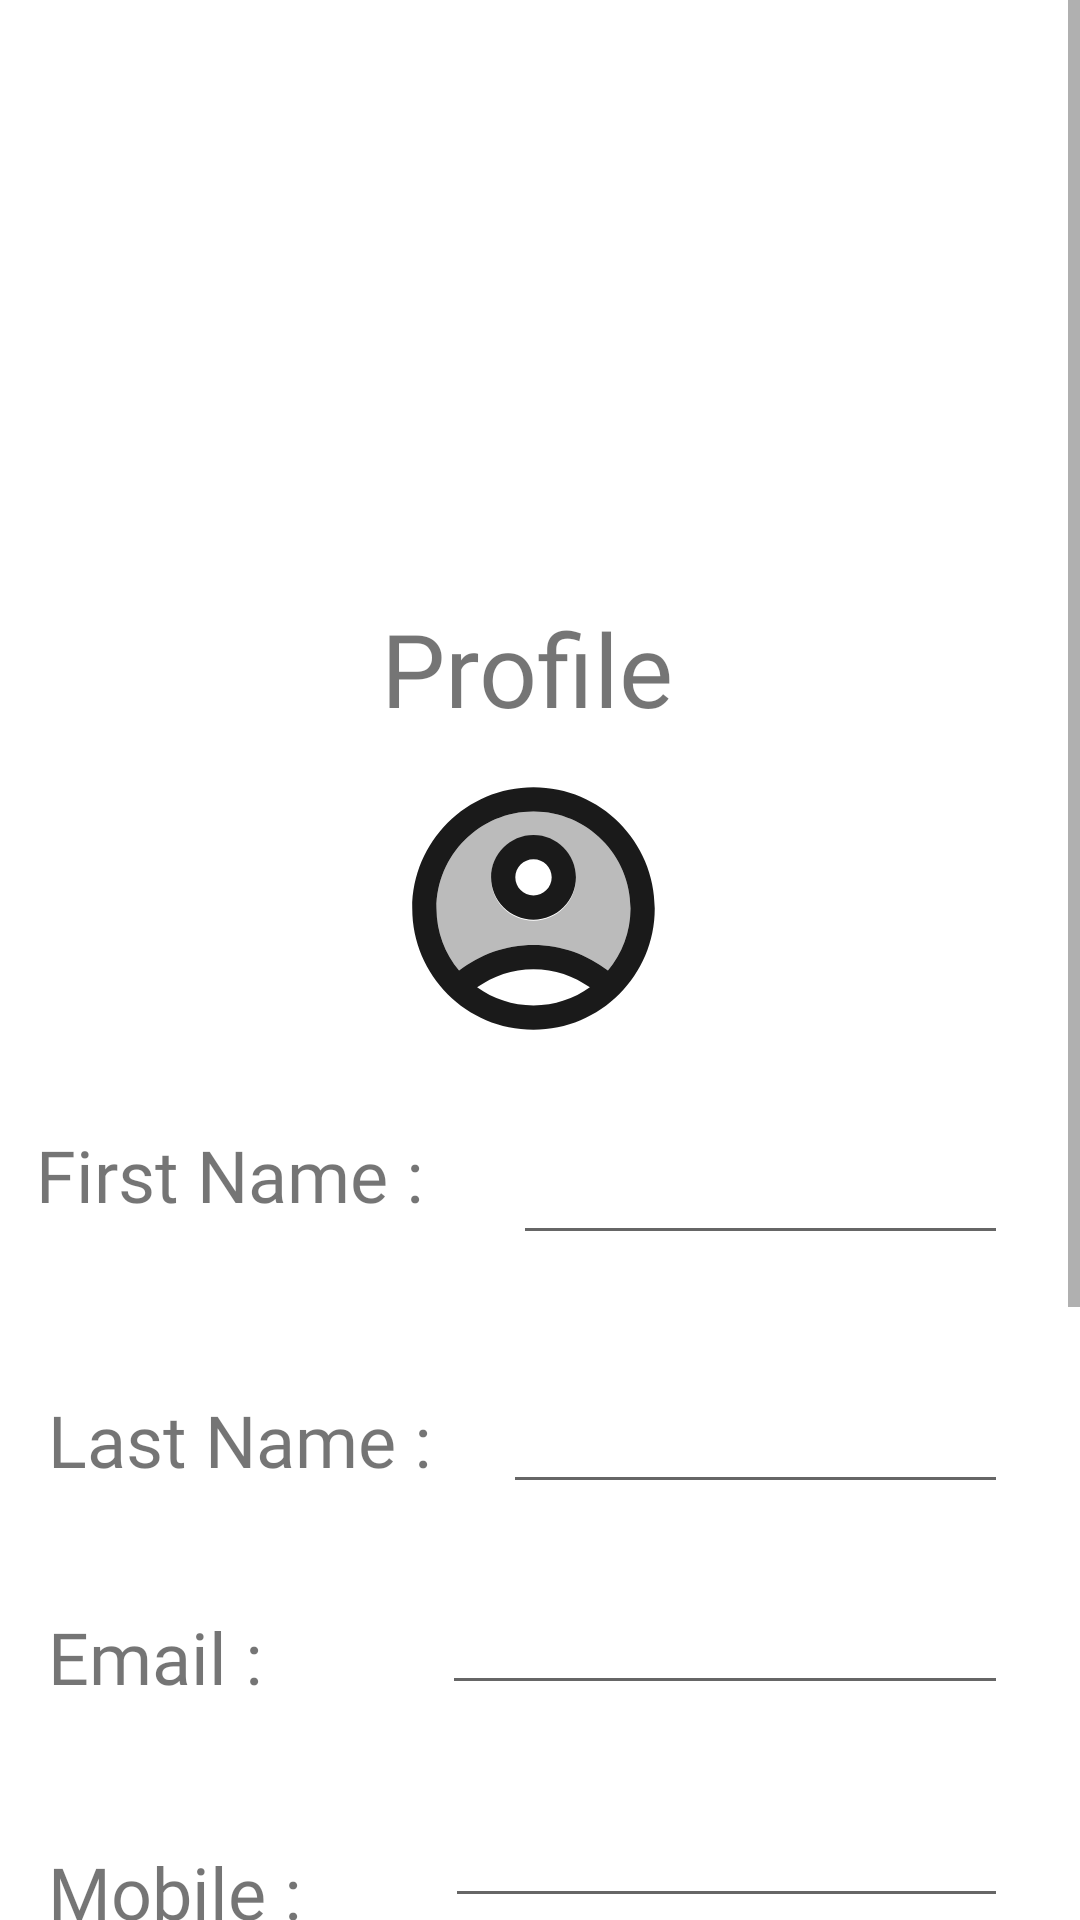

Icon bounding boxes for this 1080×1920 phone screenshot, format (x1, y1, x2, y2):
account circle: (412, 787, 655, 1030)
